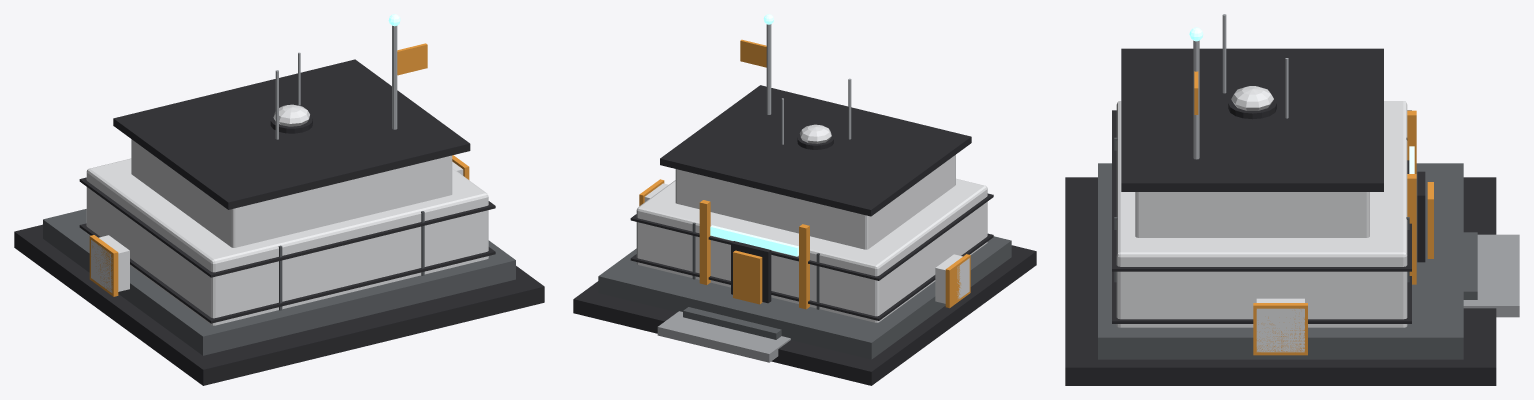
The model's file is SM_Hero_GuildHall.glb.
3 renders of one model, left to right at view 1: azimuth 30°, elevation 25°; view 2: azimuth 150°, elevation 25°; view 3: azimuth 270°, elevation 25°, orthographic. The views are drawn at different scales.
Parts seen in each view (by area): view 1: SM_Hero_GuildHall; view 2: SM_Hero_GuildHall; view 3: SM_Hero_GuildHall.
Boxes of the visible parts, x1,y1,x2,y2 form: SM_Hero_GuildHall: (14,14,544,385); SM_Hero_GuildHall: (573,14,1036,385); SM_Hero_GuildHall: (1065,14,1519,385).
Size of the model in its own units: 6 by 4.33 by 5.82.
